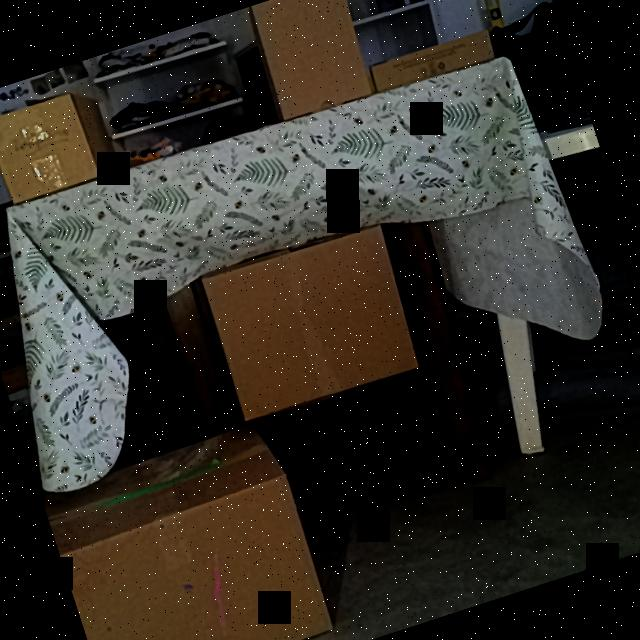box: (57, 473, 338, 640), (204, 225, 422, 424), (250, 0, 372, 120), (0, 92, 99, 206), (370, 30, 496, 93)
